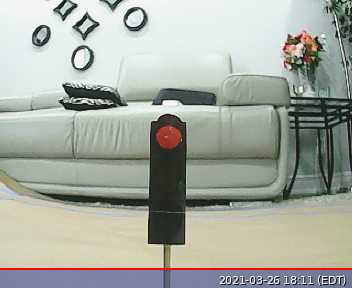Red Traffic Light: (146, 114, 188, 246)
